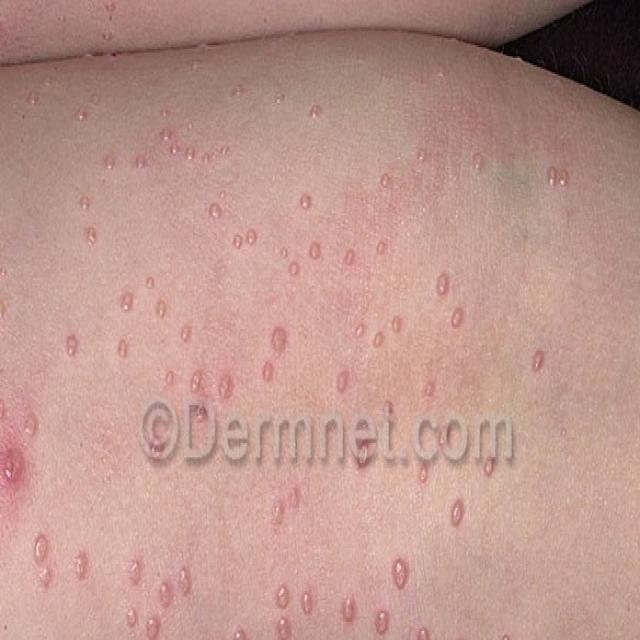Viral Infections: (0, 87, 640, 640)
